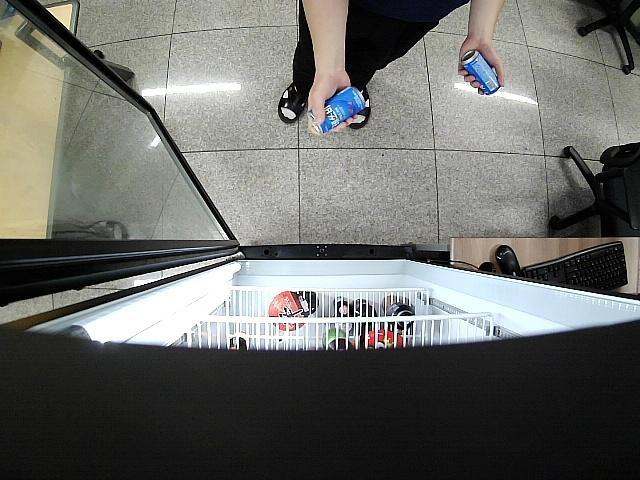15_letsbe: (310, 85, 366, 134), (462, 51, 501, 96)
